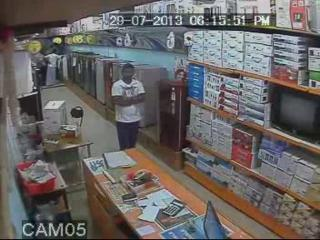Normal: (111, 63, 146, 151), (269, 88, 320, 146)
